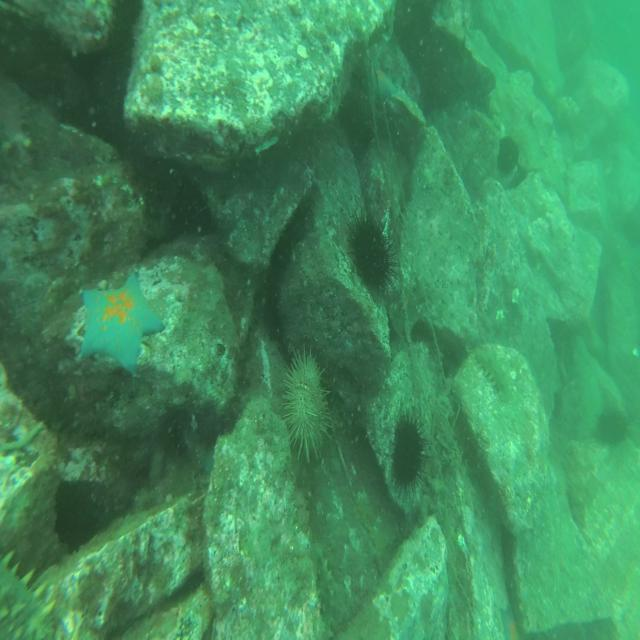echinus: (277, 342, 336, 467), (344, 202, 402, 302), (382, 395, 428, 493), (594, 401, 628, 450), (497, 131, 522, 183)
holothurian: (0, 546, 58, 640), (472, 337, 506, 398), (315, 548, 336, 630)
starfish: (76, 262, 165, 378)
